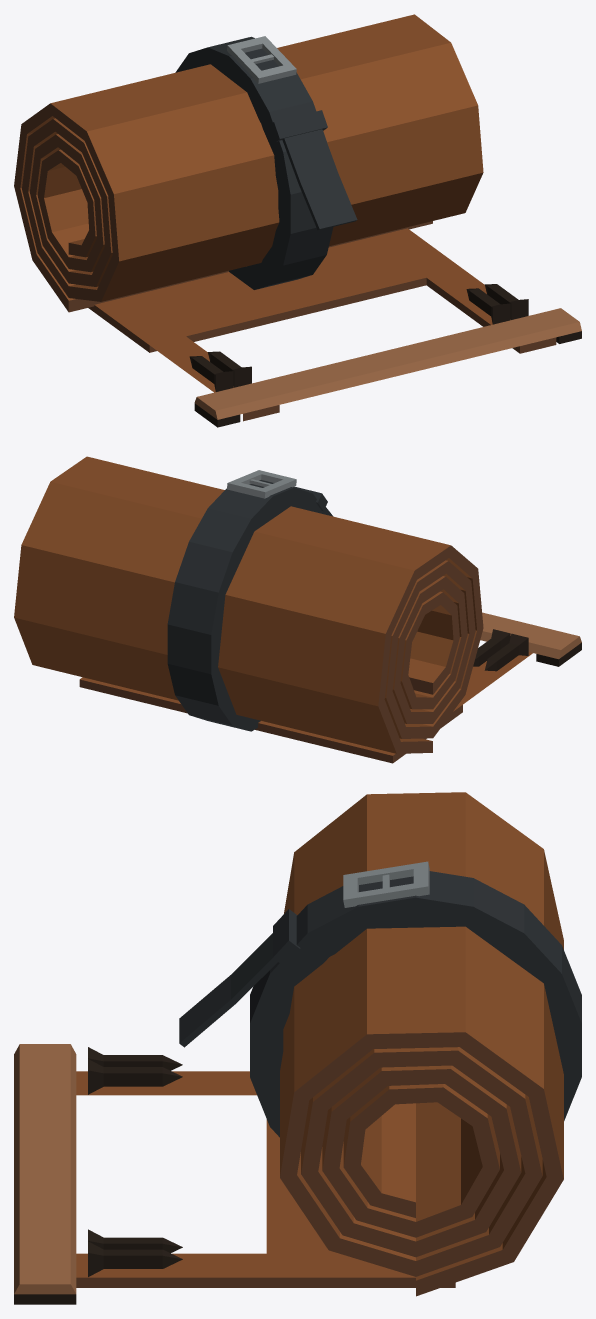
File: agility-ladder-2a8267.glb
3 views of the same model, one above another, from view 1: azimuth 30°, elevation 25°; view 2: azimuth 150°, elevation 25°; view 3: azimuth 270°, elevation 25° (orthographic). The views are drawn at different scales.
Visible parts, largest first — view 1: ladder, strap-tail, pegs-mesh; view 2: ladder, pegs-mesh; view 3: ladder, pegs-mesh, strap-tail.
Part boxes in pixels (<box>): ladder: <box>14,14,581,427</box>; strap-tail: <box>282,129,357,230</box>; pegs-mesh: <box>189,284,528,391</box>; ladder: <box>14,456,581,763</box>; pegs-mesh: <box>473,629,528,671</box>; ladder: <box>14,792,581,1304</box>; pegs-mesh: <box>88,1047,182,1276</box>; strap-tail: <box>179,933,277,1047</box>.
Size of the model in its own units: 0.5 by 0.3019 by 0.5.
